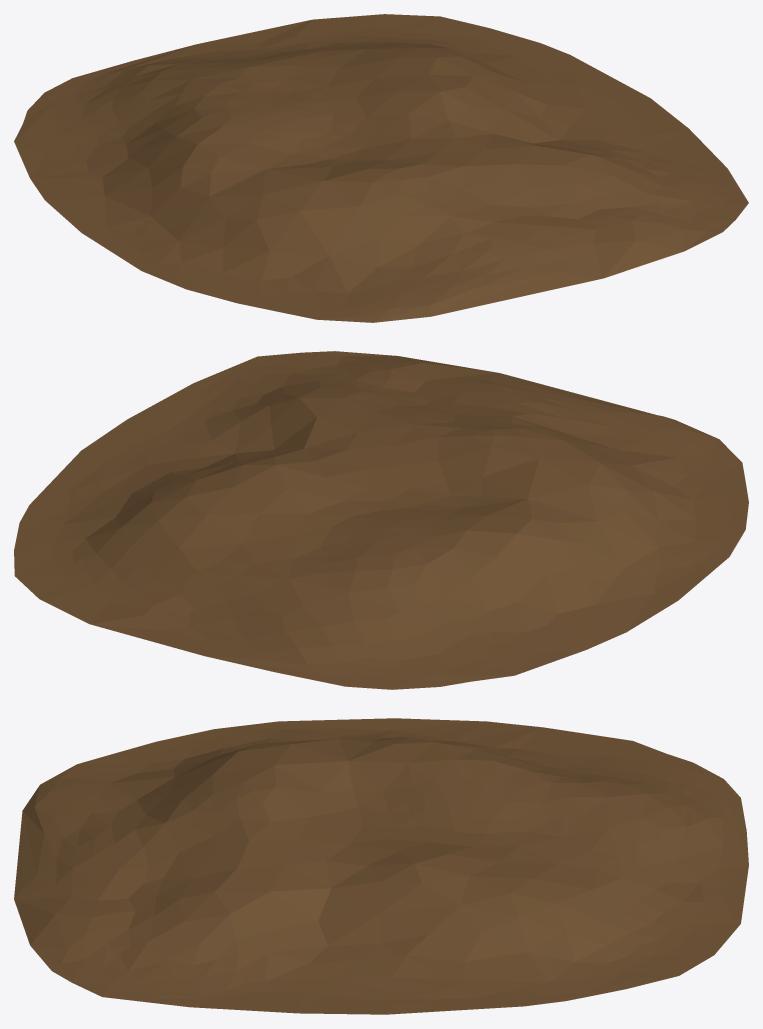
Rendered from Mesh_Landscape_Hill_08.FBX.
The picture shows the model from 3 angles, top to bottom: view 1: azimuth 30°, elevation 25°; view 2: azimuth 150°, elevation 25°; view 3: azimuth 270°, elevation 25°; orthographic projection. The views are drawn at different scales.
Parts seen in each view (by area): view 1: Mesh_Landscape_Hill_08; view 2: Mesh_Landscape_Hill_08; view 3: Mesh_Landscape_Hill_08.
Part boxes in pixels (left/top/right/bottom): Mesh_Landscape_Hill_08: left=14, top=14, right=748, bottom=322; Mesh_Landscape_Hill_08: left=14, top=351, right=748, bottom=689; Mesh_Landscape_Hill_08: left=14, top=718, right=748, bottom=1014.
Bounding box in the file's own units: 1887 × 1977 × 155.
